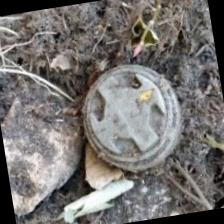M14: (82, 58, 185, 176)
